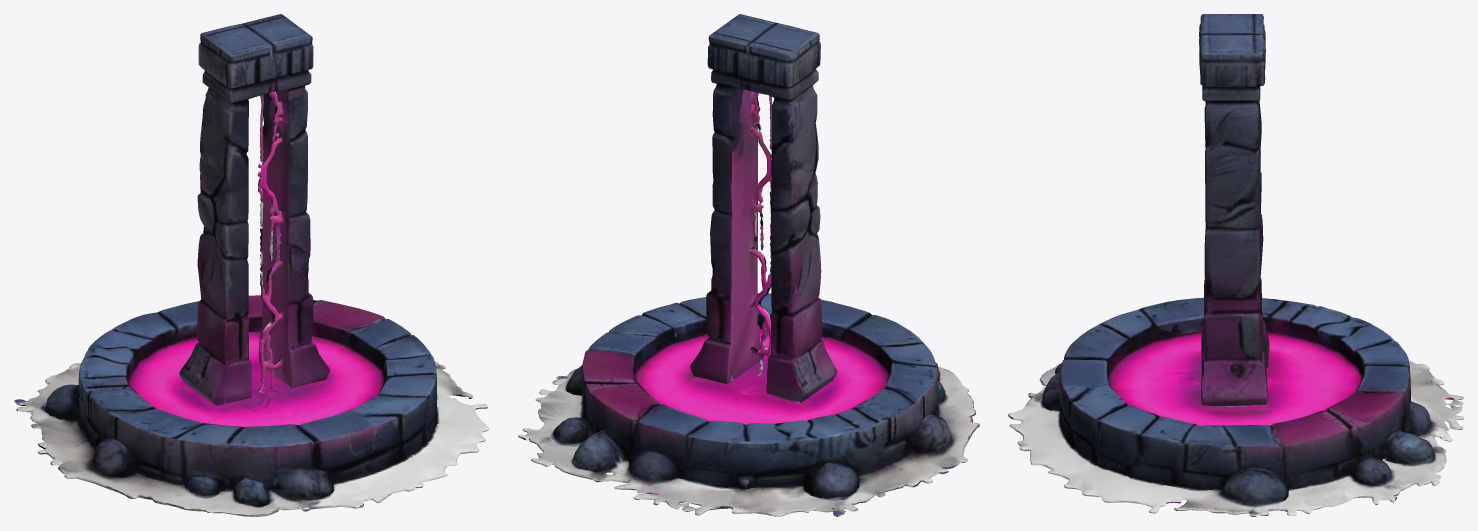
File: support-column-generated-2026-05-17T18-42-32-113Z.low.glb
The picture shows the model from 3 angles, left to right: view 1: azimuth 30°, elevation 25°; view 2: azimuth 150°, elevation 25°; view 3: azimuth 270°, elevation 25°; orthographic projection.
Visible parts, largest first — view 1: temp_mesh.ply; view 2: temp_mesh.ply; view 3: temp_mesh.ply.
Part boxes in pixels (x1=…): temp_mesh.ply: x1=14, y1=14, x2=489, y2=516; temp_mesh.ply: x1=518, y1=14, x2=979, y2=516; temp_mesh.ply: x1=1008, y1=14, x2=1463, y2=516.
Bounding box in the file's own units: 1.97 × 1.86 × 1.97.
1 material, 1 textured.
